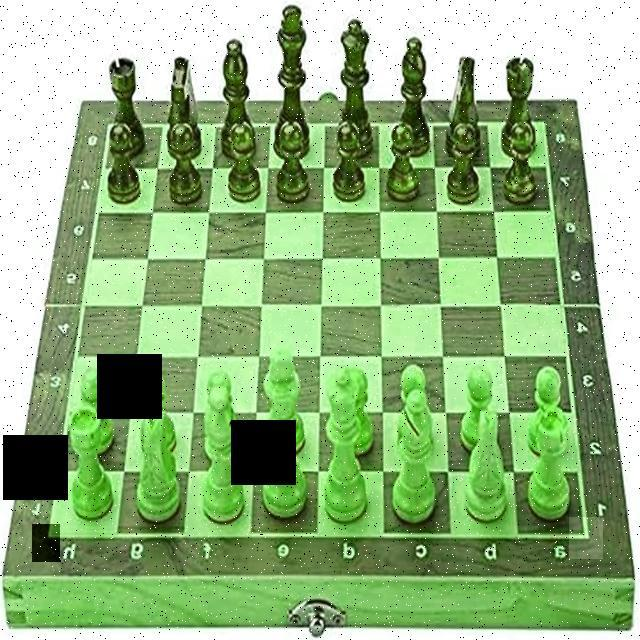chess-table-corners: (569, 517, 603, 559), (32, 524, 59, 562), (536, 106, 556, 133)
